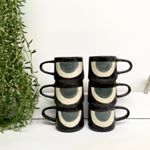cups: (86, 54, 135, 83), (37, 54, 85, 83), (86, 105, 134, 132), (38, 106, 85, 133), (86, 82, 134, 105), (37, 83, 85, 106)
